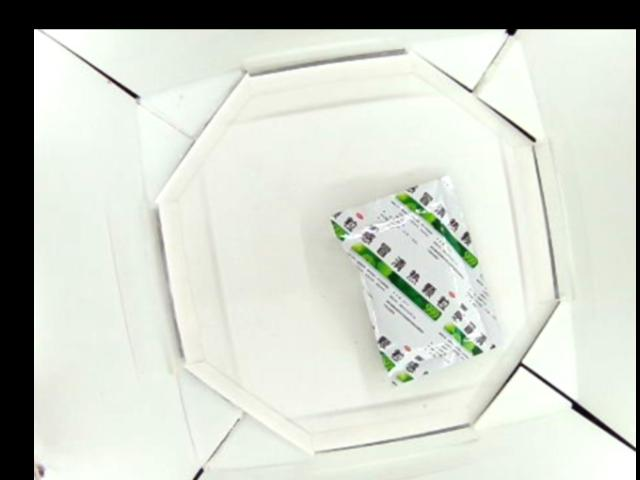Medicine: (326, 172, 505, 388)
